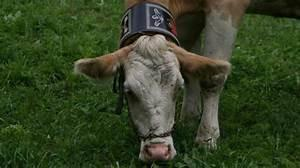cow: (72, 0, 251, 164)
